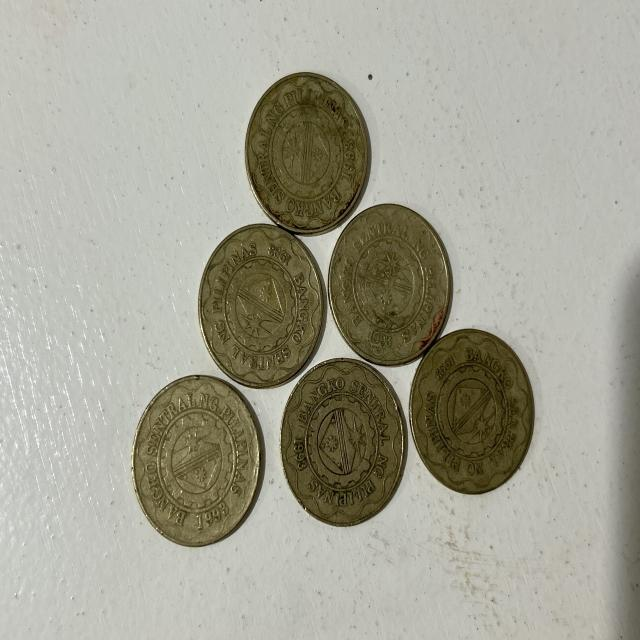5_Old_Back: (133, 372, 264, 544), (192, 219, 326, 386), (408, 325, 539, 494), (283, 354, 401, 525), (329, 204, 451, 368), (243, 77, 369, 226)
